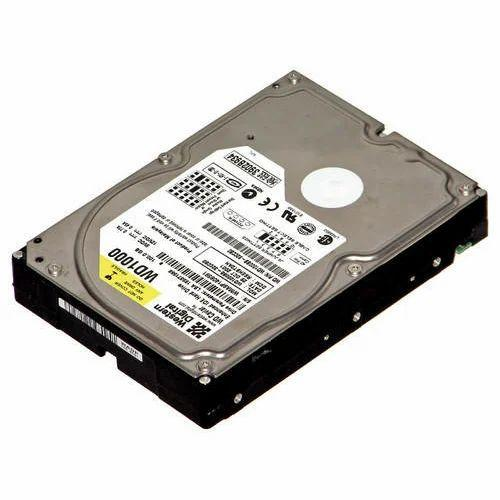internal HDD: (10, 72, 490, 430)
